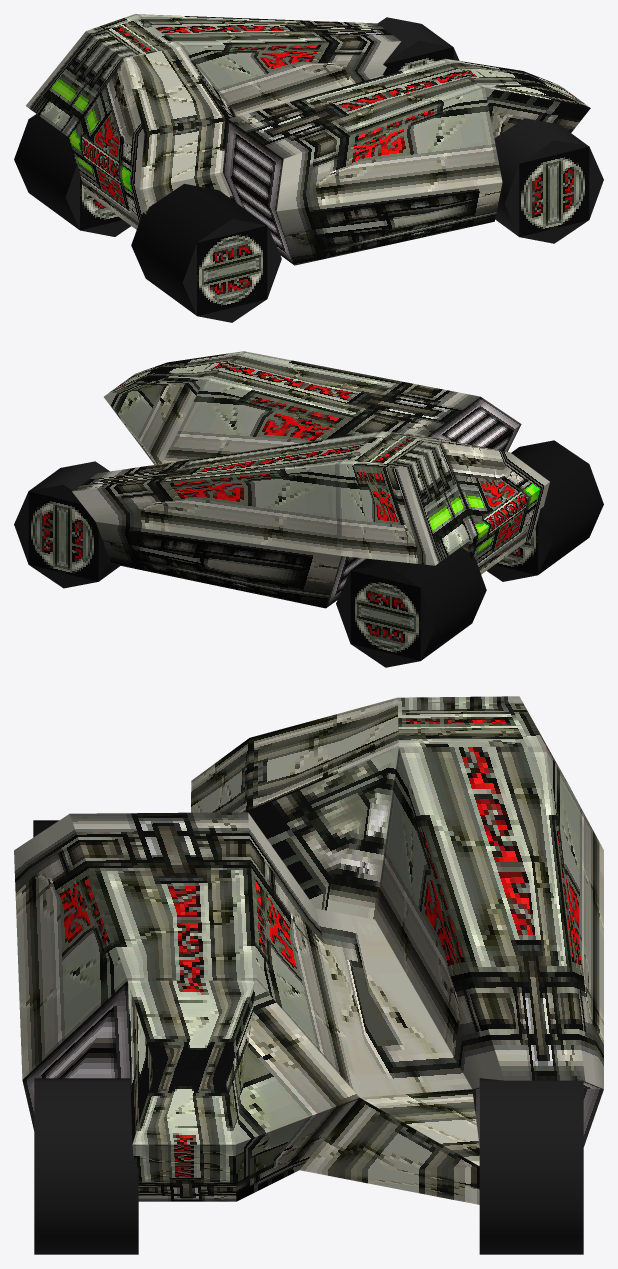
The model's file is Alien.glb.
The picture shows the model from 3 angles, top to bottom: view 1: azimuth 30°, elevation 25°; view 2: azimuth 150°, elevation 25°; view 3: azimuth 270°, elevation 25°; orthographic projection. The views are drawn at different scales.
Visible parts, largest first — view 1: ChassisSR0, WheelRR, WheelFR, WheelRL, WheelFL; view 2: ChassisSR0, WheelRL, WheelFL, WheelRR; view 3: ChassisSR0, WheelFL, WheelFR.
Part boxes in pixels (box(x1,y1,x2,y2)): ChassisSR0: box(26, 14, 590, 265); WheelRR: box(131, 183, 281, 322); WheelFR: box(494, 118, 603, 243); WheelRL: box(14, 114, 130, 236); WheelFL: box(377, 17, 459, 75); ChassisSR0: box(72, 351, 549, 608); WheelRL: box(336, 547, 486, 667); WheelFL: box(14, 461, 120, 588); WheelRR: box(487, 440, 603, 581); ChassisSR0: box(14, 696, 603, 1204); WheelFL: box(479, 1078, 583, 1254); WheelFR: box(34, 1078, 138, 1254).
Size of the model in its own units: 4.98 by 1.98 by 3.54.
4 materials, 2 textured.
